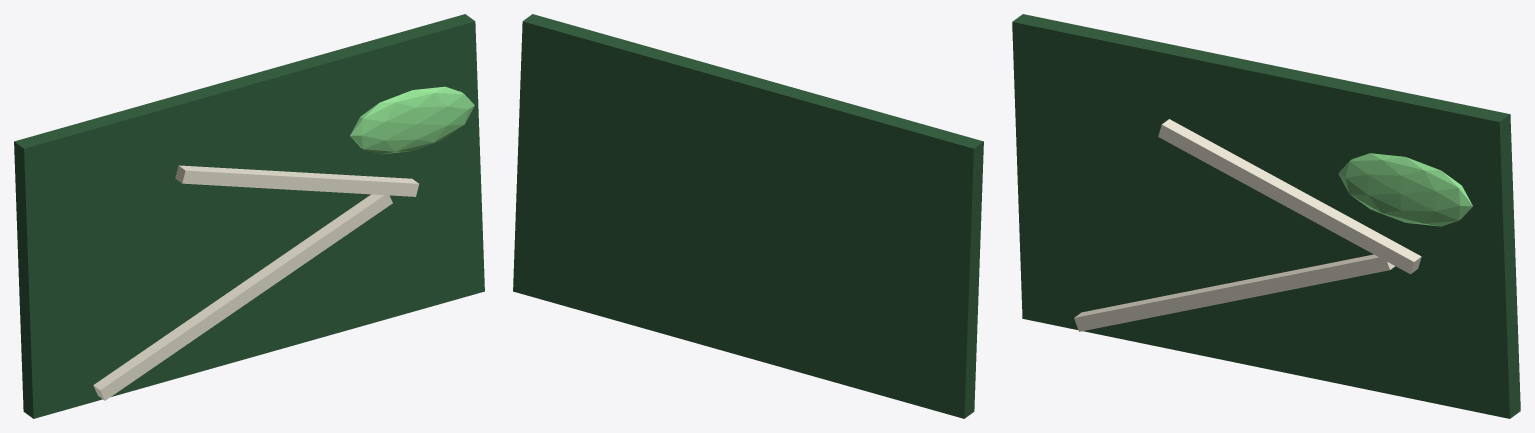
Rendered from 01_weathering_wear_overlay_1.glb.
3 renders of one model, left to right at view 1: azimuth 30°, elevation 25°; view 2: azimuth 150°, elevation 25°; view 3: azimuth 330°, elevation 25°, orthographic. The views are drawn at different scales.
Parts seen in each view (by area): view 1: wear_plate, scratch_a, rust_or_moss_spot, scratch_b; view 2: wear_plate; view 3: wear_plate, rust_or_moss_spot, scratch_b, scratch_a.
Boxes of the visible parts, bbox=[...] form: wear_plate: bbox=[14, 14, 484, 418]; scratch_a: bbox=[93, 194, 392, 400]; rust_or_moss_spot: bbox=[350, 86, 474, 154]; scratch_b: bbox=[175, 165, 419, 196]; wear_plate: bbox=[513, 14, 983, 418]; wear_plate: bbox=[1012, 14, 1520, 418]; rust_or_moss_spot: bbox=[1338, 153, 1472, 226]; scratch_b: bbox=[1158, 119, 1421, 274]; scratch_a: bbox=[1074, 254, 1395, 331].
Bounding box in the file's own units: 1.33 × 0.7972 × 0.134.
